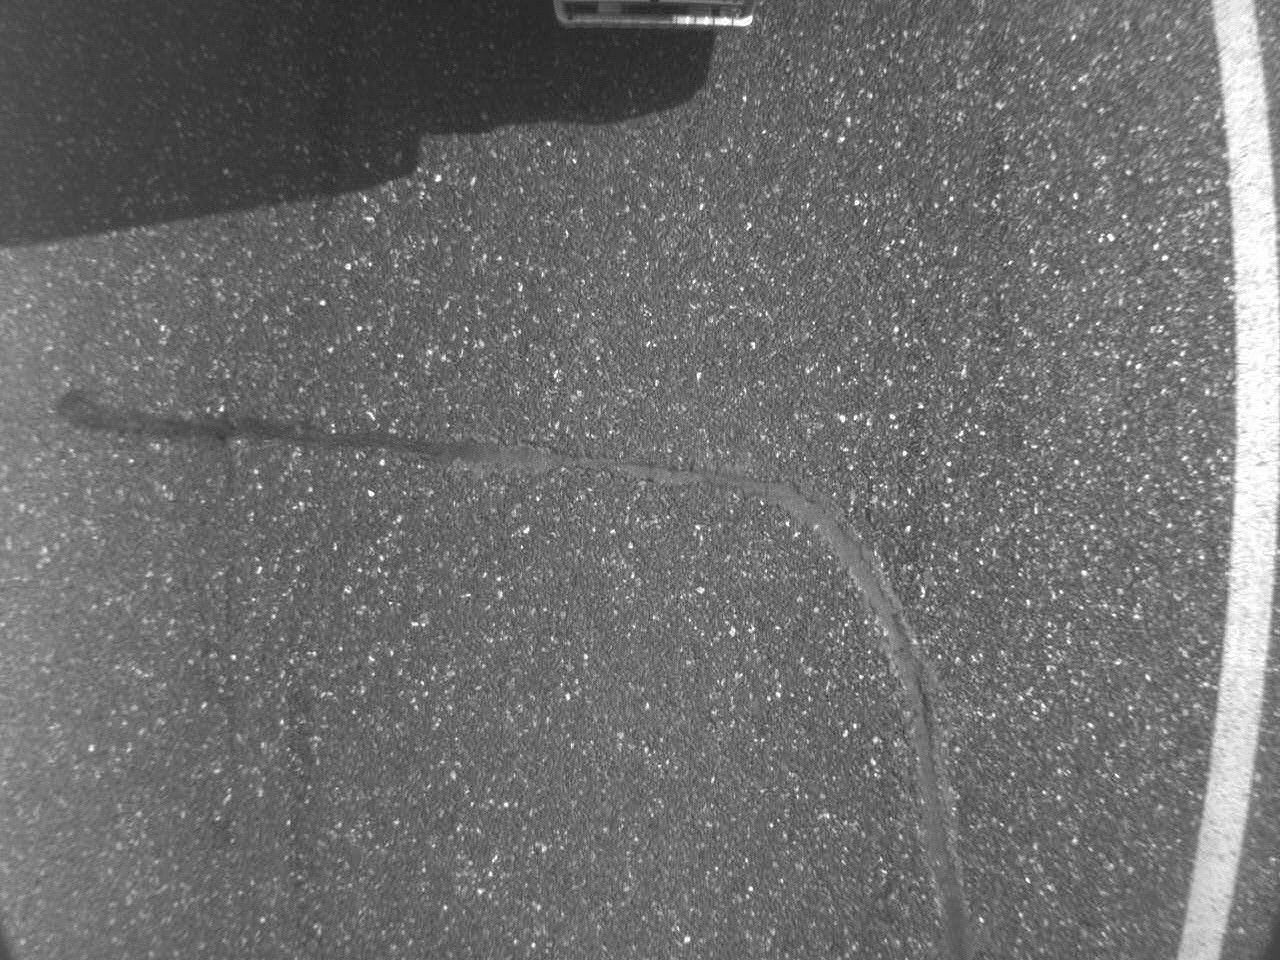sealed: (68, 392, 847, 521), (786, 524, 976, 944)
